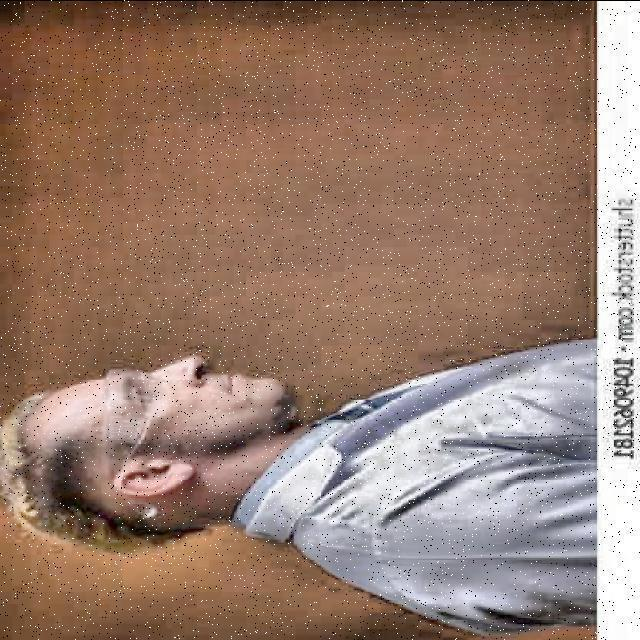Goggles: (94, 351, 206, 519)
